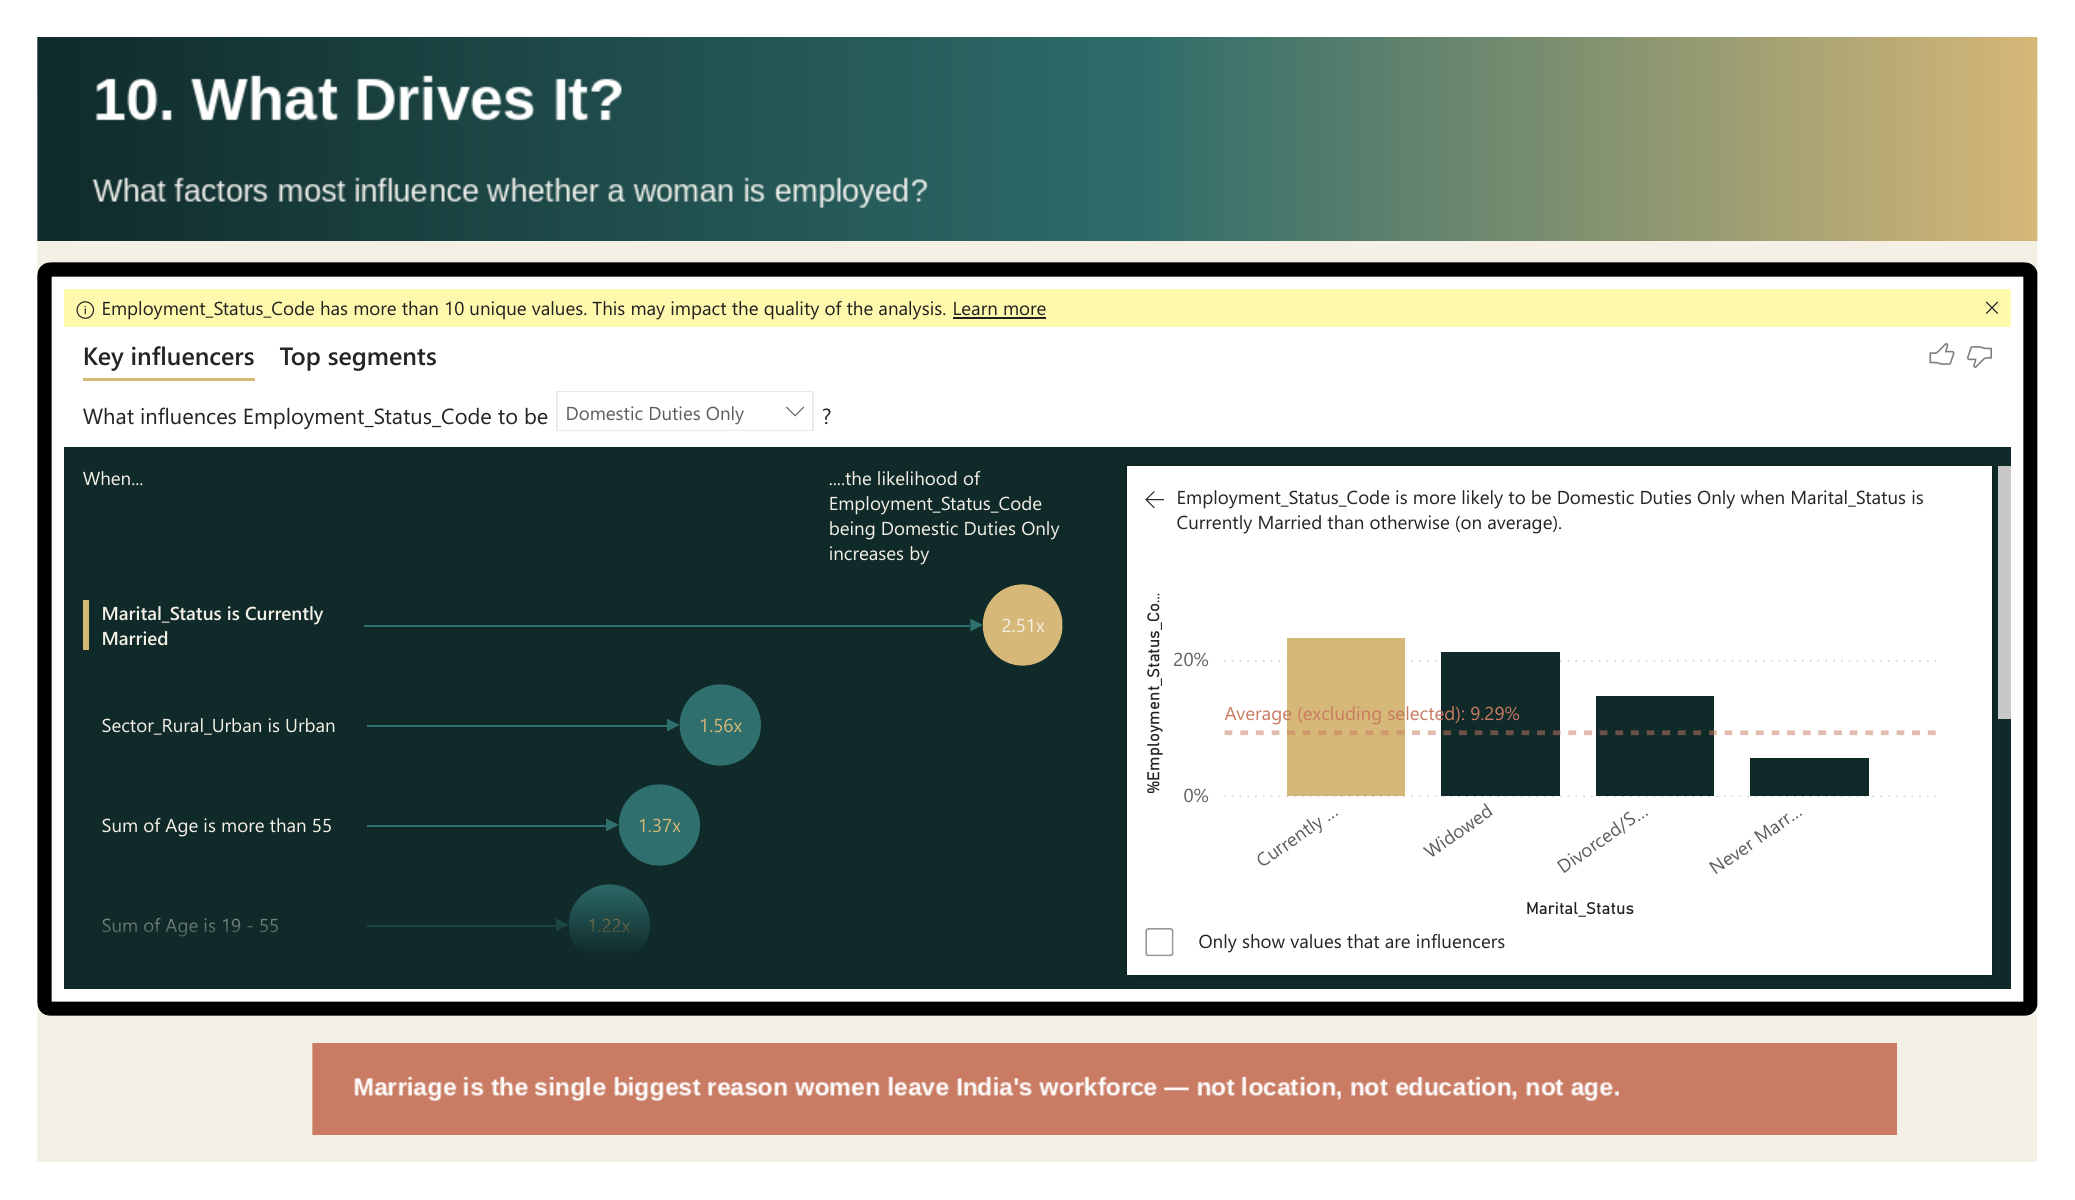

This screenshot's page, from the dashboard's own definition file:
{"tool":"powerbi","page":{"name":"10. What Drives It?","canvas":[1280,720],"ordinal":10},"visuals":[{"type":"image","box":[0,0,1280.5,130.5],"z":0},{"type":"keyDriversVisual","fields":{"Target":["PLFS_Main.Employment_Status_Code"],"ExplainBy":["PLFS_Main.Sector_Rural_Urban","PLFS_Main.General_Education_Level","PLFS_Main.Marital_Status","Sum(PLFS_Main.Age)"]},"box":[0,143.9,1280.5,481.7],"z":1000},{"type":"image","box":[175.6,625.6,1014.6,93.9],"z":2000}]}

Visuals, with their boxes on the page's 1280x720 design canvas (x1, y1, x2, y2). These are canvas units, not pixel positions in the 2075x1200 screenshot, which may show the page scaled, cropped or inside an application window:
image: [0, 0, 1280, 130]
keyDriversVisual - PLFS_Main.Employment_Status_Code x PLFS_Main.Sector_Rural_Urban: [0, 144, 1280, 626]
image: [176, 626, 1190, 720]
